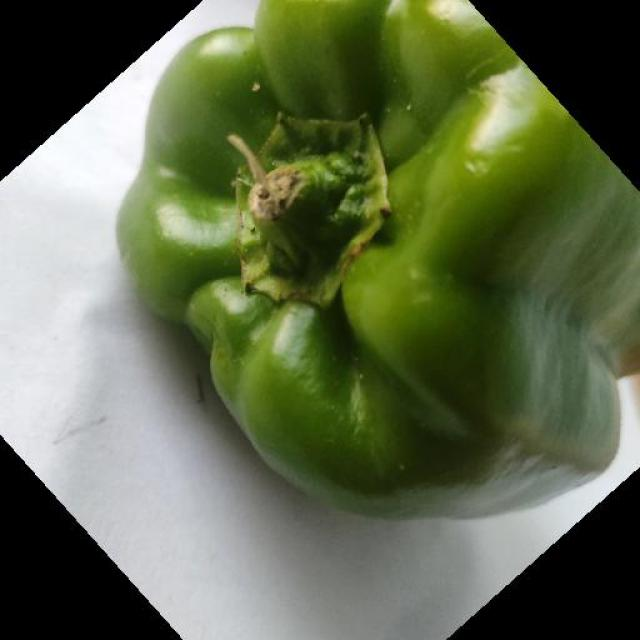Fresh_Capsicum: (142, 7, 640, 490)
